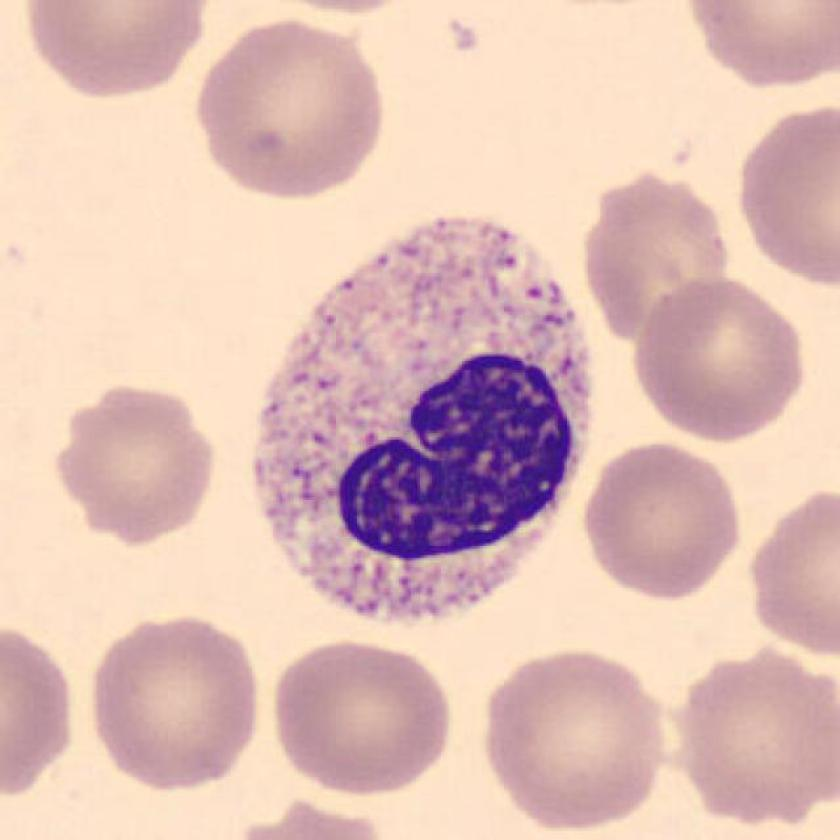neutrophil: (248, 211, 594, 626)
